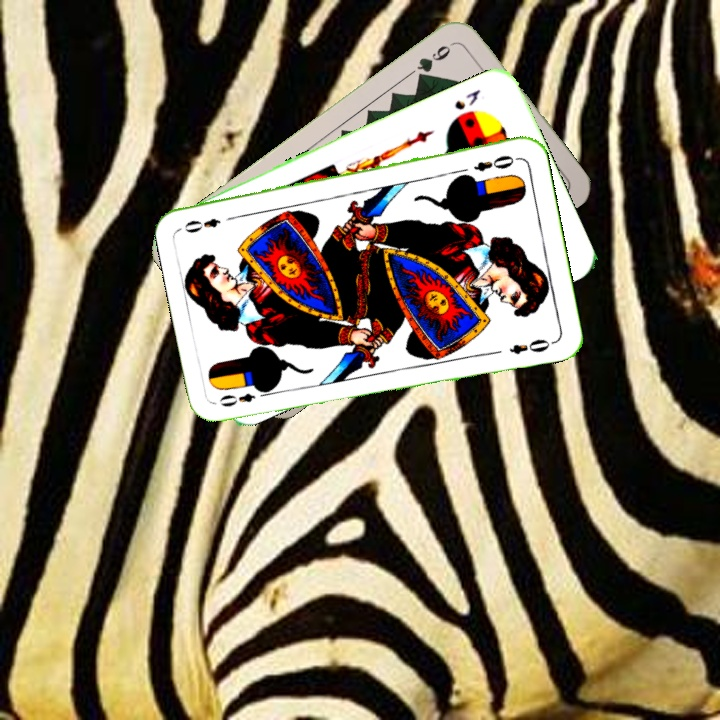EO: (215, 384, 272, 410), (470, 151, 522, 175)
G9: (412, 37, 459, 83)
SK: (450, 85, 483, 113)
